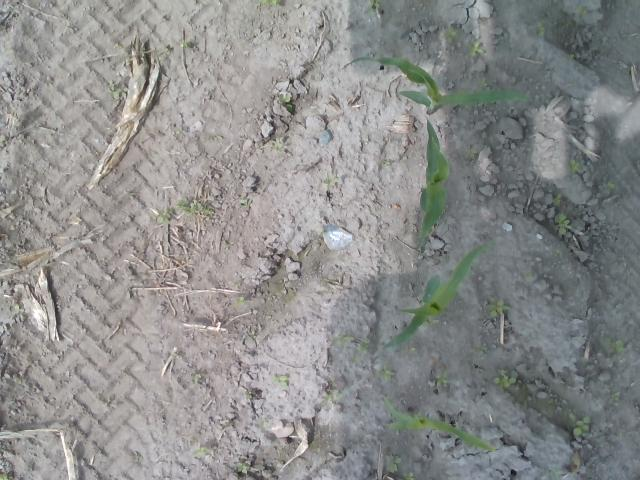Maize: (386, 240, 496, 350), (338, 55, 534, 114), (382, 396, 498, 453), (419, 118, 451, 244)
Weeds: (0, 293, 20, 336), (485, 298, 510, 320), (175, 198, 208, 214), (570, 413, 590, 436), (353, 338, 371, 363), (494, 375, 517, 389), (156, 208, 176, 224), (106, 80, 122, 100), (277, 95, 294, 112), (557, 213, 570, 235), (384, 454, 399, 473), (608, 339, 626, 354), (468, 42, 486, 57), (440, 28, 457, 43), (434, 376, 452, 390), (321, 175, 336, 191), (376, 368, 394, 381), (337, 334, 352, 348), (272, 373, 288, 386), (534, 22, 546, 36), (544, 470, 560, 480), (368, 0, 382, 11), (194, 447, 210, 456), (552, 192, 562, 206), (609, 390, 620, 402), (577, 4, 588, 16), (274, 142, 284, 155), (570, 158, 580, 171), (261, 0, 282, 6), (326, 392, 338, 402), (237, 462, 249, 471), (550, 249, 562, 258), (403, 472, 415, 480), (239, 198, 247, 208), (236, 296, 244, 305)
